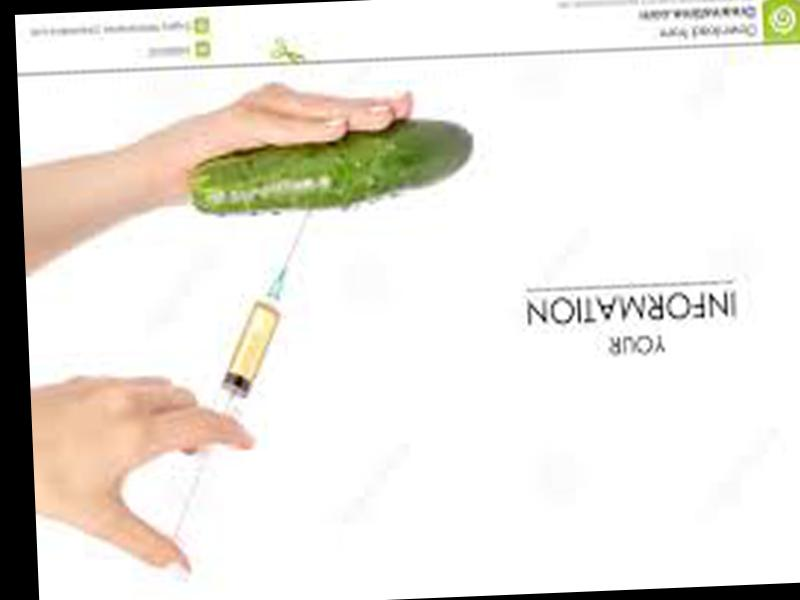Cucumber: (186, 118, 475, 214)
